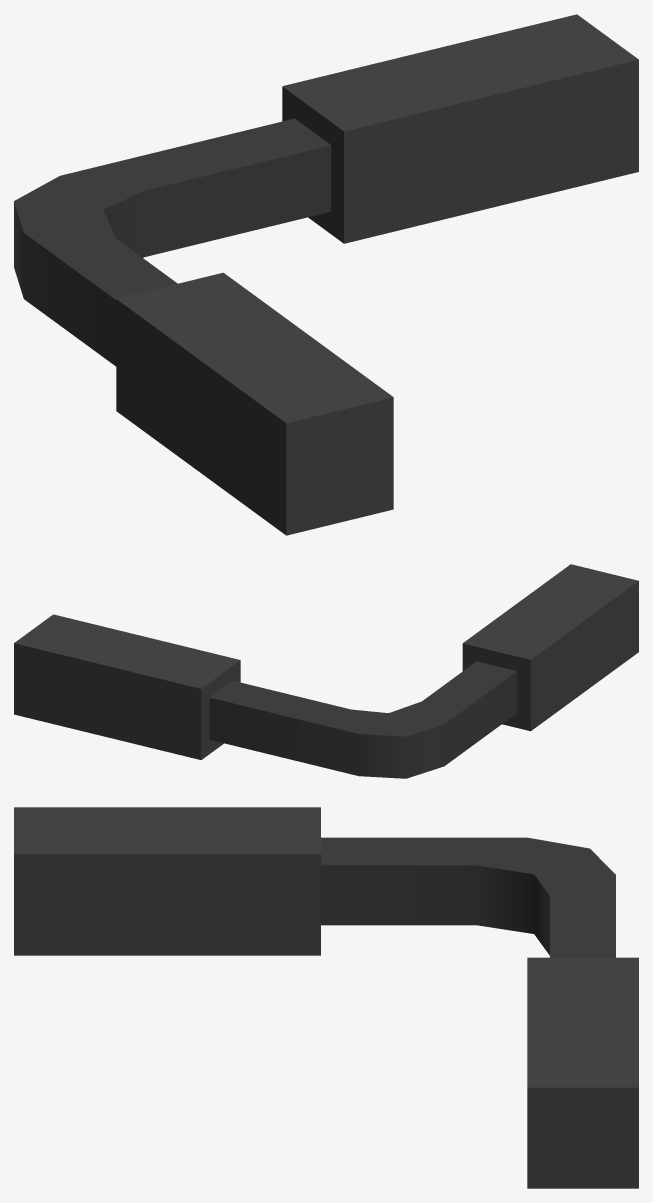
Rendered from Cable_B_2_1.fbx.
3 views of the same model, one above another, from view 1: azimuth 30°, elevation 25°; view 2: azimuth 150°, elevation 25°; view 3: azimuth 270°, elevation 25° (orthographic). The views are drawn at different scales.
Visible parts, largest first — view 1: Cable_B_2_1; view 2: Cable_B_2_1; view 3: Cable_B_2_1.
Boxes of the visible parts, bbox=[...] form: Cable_B_2_1: bbox=[14, 14, 638, 535]; Cable_B_2_1: bbox=[14, 564, 638, 778]; Cable_B_2_1: bbox=[14, 807, 638, 1188].
Size of the model in its own units: 58.35 by 9.83 by 54.97.
